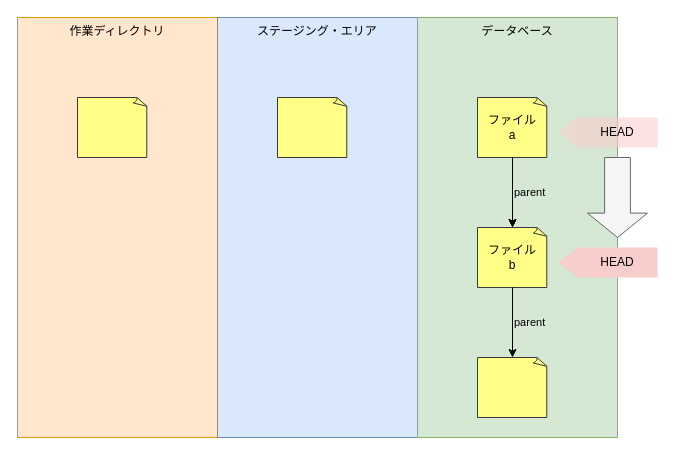
Some shapes in this 675 by 455 pixel diagram are drawn without their labels. The shapes that lost their labels are listed below. From the top down, each one's centre as x and y in pixels, then its label:
point 112,127: ファイル a´´
point 312,127: ファイル a´
point 617,197: git reset --soft
point 512,387: ファイル c
